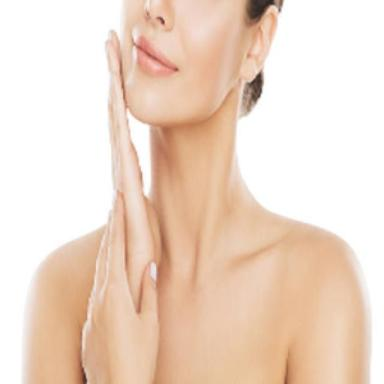normal skin: (25, 0, 368, 384)
